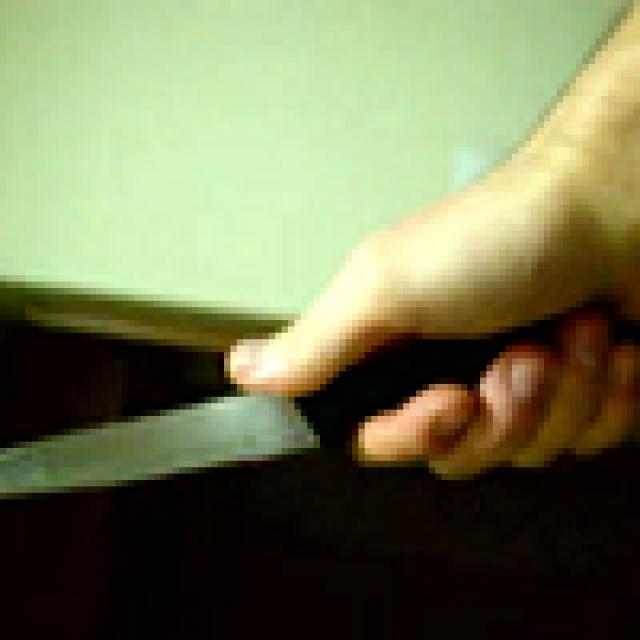Knife: (0, 301, 640, 531)
